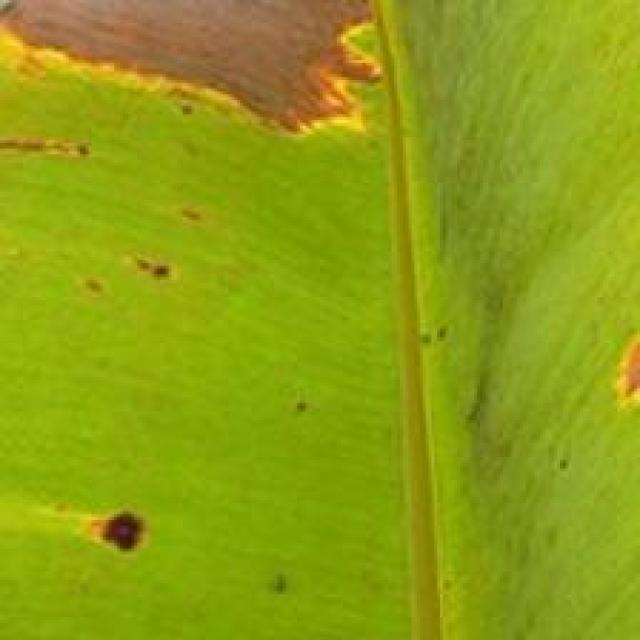Bacterial_spot: (0, 0, 421, 151), (66, 489, 162, 562), (0, 125, 114, 180), (118, 248, 207, 304), (594, 323, 640, 426), (74, 250, 129, 314), (167, 194, 212, 233)
